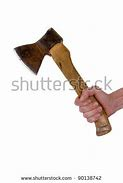axe: (13, 26, 113, 137)
